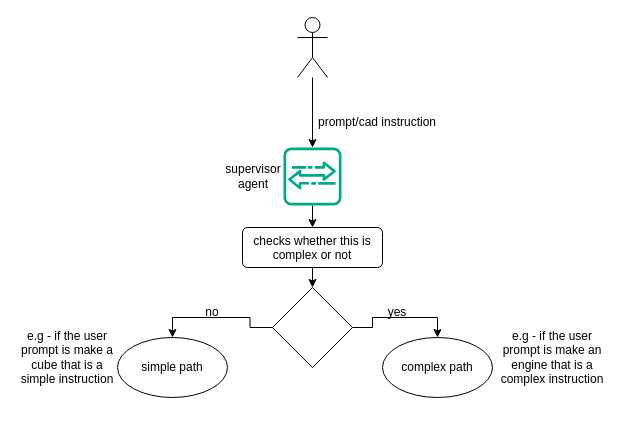
This 624x425 diagram has some shape labels left out. Each missing label, with the centre of its shape:
complex?: the point at 312,327
User: the point at 312,47
